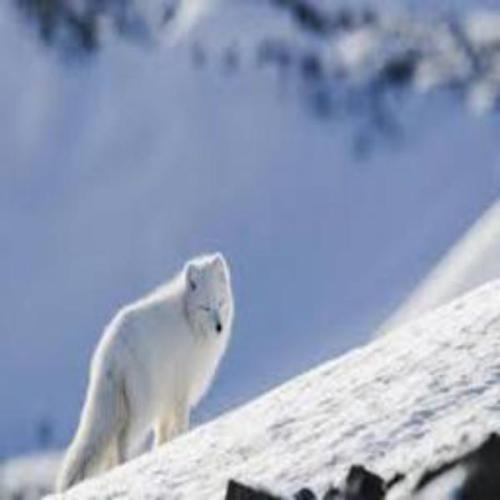arctic_fox-endangered: (60, 252, 235, 493)
